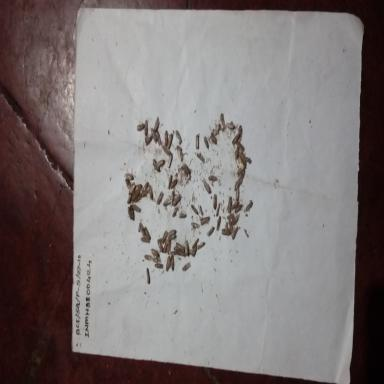pbw: (218, 112, 227, 130), (152, 158, 162, 174), (202, 180, 212, 195), (176, 144, 184, 162), (199, 214, 211, 226), (162, 143, 172, 157), (156, 237, 164, 254), (155, 191, 164, 206), (226, 195, 233, 214), (203, 134, 210, 152), (167, 152, 174, 170), (206, 225, 215, 239), (196, 152, 206, 164), (194, 132, 200, 152), (129, 204, 136, 220), (210, 132, 218, 146), (226, 121, 236, 132), (124, 171, 135, 181), (182, 260, 191, 272), (190, 204, 199, 216), (191, 237, 200, 249), (145, 267, 151, 285), (213, 123, 222, 135), (245, 200, 254, 212), (173, 193, 181, 206), (151, 127, 157, 144), (165, 255, 171, 272), (236, 142, 246, 152), (162, 197, 172, 207), (132, 203, 141, 214), (155, 159, 166, 168), (234, 203, 243, 214), (212, 193, 218, 209), (128, 182, 136, 194), (167, 133, 173, 149), (232, 134, 240, 146), (143, 119, 149, 135), (216, 214, 222, 230), (184, 239, 189, 258), (234, 179, 241, 192), (154, 116, 160, 131), (191, 221, 200, 231), (143, 253, 153, 262), (126, 206, 132, 221), (140, 236, 150, 245), (152, 254, 161, 264), (221, 227, 230, 237), (234, 145, 240, 160), (136, 122, 145, 132), (232, 214, 240, 225), (157, 130, 162, 147), (232, 227, 239, 239), (238, 122, 244, 136), (192, 244, 198, 258), (145, 135, 152, 147), (144, 227, 151, 239), (162, 230, 168, 244), (176, 130, 182, 144), (151, 247, 160, 256), (134, 182, 142, 192), (148, 184, 153, 200), (170, 178, 178, 188), (231, 200, 239, 210), (154, 262, 164, 270), (142, 180, 148, 193), (238, 157, 244, 170), (240, 169, 246, 182), (172, 207, 179, 218), (125, 179, 132, 190), (228, 219, 233, 234), (176, 241, 184, 250), (198, 241, 206, 250), (179, 211, 188, 219), (244, 156, 252, 165), (171, 254, 175, 272), (167, 229, 177, 236), (208, 175, 218, 182), (132, 191, 139, 201), (167, 175, 172, 189), (140, 225, 146, 236), (198, 205, 204, 216), (164, 130, 168, 146), (164, 239, 168, 255), (178, 250, 186, 258), (226, 213, 235, 220), (141, 189, 148, 198), (236, 186, 240, 201), (126, 194, 132, 204), (167, 234, 177, 240), (137, 220, 141, 234), (171, 191, 175, 205), (188, 248, 195, 256), (168, 239, 172, 253), (237, 167, 243, 176), (173, 246, 182, 252), (216, 203, 220, 216)
